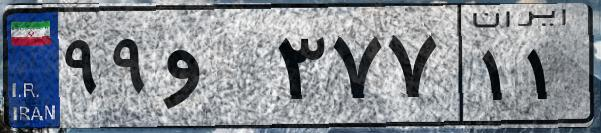1: (475, 38, 525, 113), (525, 38, 570, 115)
3: (270, 28, 330, 110)
7: (385, 28, 445, 110), (330, 28, 385, 110)
9: (57, 26, 110, 100), (110, 28, 158, 98)
و: (158, 20, 270, 120)
